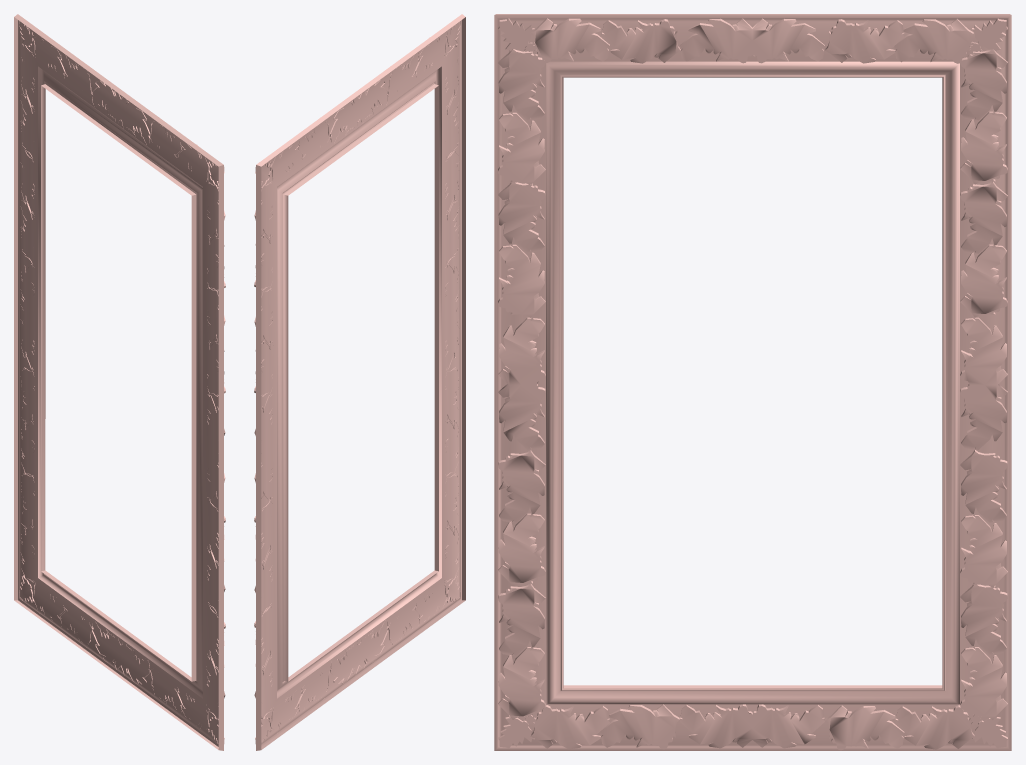
File: simple picture.fbx
3 views of the same model, side by side, from view 1: azimuth 30°, elevation 25°; view 2: azimuth 150°, elevation 25°; view 3: azimuth 270°, elevation 25° (orthographic). The views are drawn at different scales.
Parts seen in each view (by area): view 1: Simple Frame; view 2: Simple Frame; view 3: Simple Frame.
Boxes of the visible parts, x1,y1,x2,y2 form: Simple Frame: [14, 14, 225, 750]; Simple Frame: [254, 14, 465, 750]; Simple Frame: [494, 14, 1011, 750].
Bounding box in the file's own units: 0.7511 × 1.18 × 0.0168.
